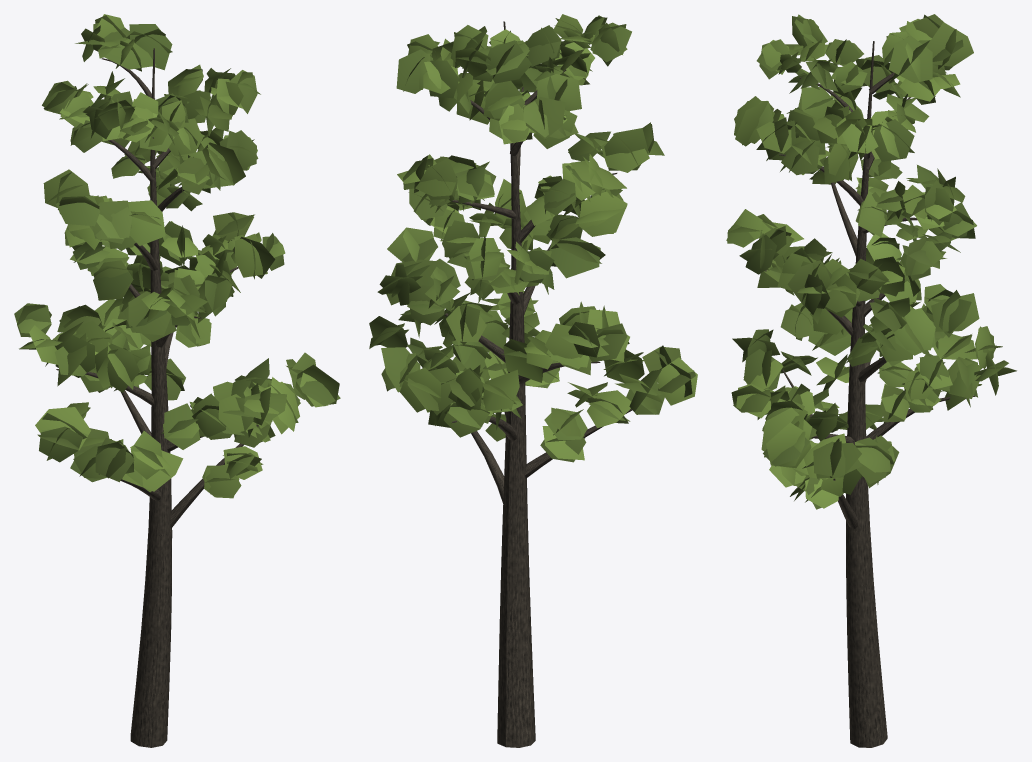
File: upright_02_lod1.glb
The picture shows the model from 3 angles, left to right: view 1: azimuth 30°, elevation 25°; view 2: azimuth 150°, elevation 25°; view 3: azimuth 270°, elevation 25°; orthographic projection. The views are drawn at different scales.
Visible parts, largest first — view 1: individual_curved_leaf_sprigs, retained_branches_0; view 2: individual_curved_leaf_sprigs, retained_branches_0; view 3: individual_curved_leaf_sprigs, retained_branches_0.
Boxes of the visible parts, bbox=[...] form: individual_curved_leaf_sprigs: bbox=[14, 14, 340, 498]; retained_branches_0: bbox=[56, 48, 258, 747]; individual_curved_leaf_sprigs: bbox=[369, 14, 697, 462]; retained_branches_0: bbox=[444, 21, 632, 747]; individual_curved_leaf_sprigs: bbox=[726, 14, 1016, 509]; retained_branches_0: bbox=[765, 41, 975, 747].
Size of the model in its own units: 5.15 by 11.71 by 4.32.
2 materials, 1 textured.
